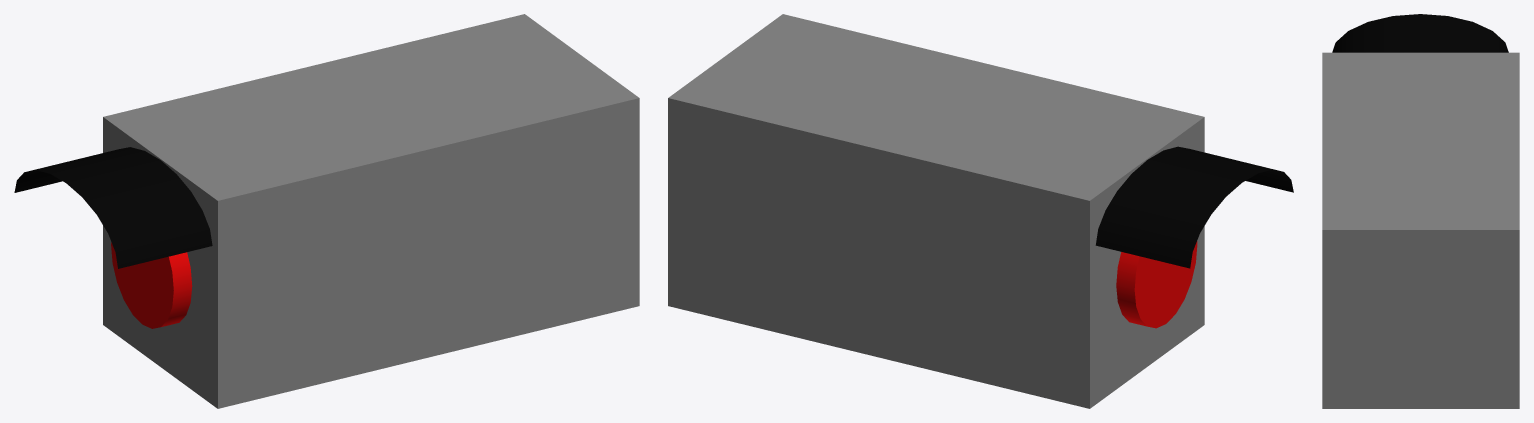
The model's file is Camera.fbx.
3 views of the same model, side by side, from view 1: azimuth 30°, elevation 25°; view 2: azimuth 150°, elevation 25°; view 3: azimuth 270°, elevation 25° (orthographic). The views are drawn at different scales.
Parts seen in each view (by area): view 1: pCube1, pCylinder1, pCylinder2; view 2: pCube1, pCylinder1, pCylinder2; view 3: pCube1, pCylinder1.
Boxes of the visible parts, x1,y1,x2,y2 form: pCube1: [103, 14, 639, 408]; pCylinder1: [14, 147, 212, 268]; pCylinder2: [111, 242, 192, 328]; pCube1: [668, 14, 1204, 408]; pCylinder1: [1095, 146, 1293, 268]; pCylinder2: [1116, 241, 1197, 328]; pCube1: [1322, 52, 1519, 408]; pCylinder1: [1332, 14, 1508, 52].
Bounding box in the file's own units: 1.44 × 0.5535 × 0.5535.
